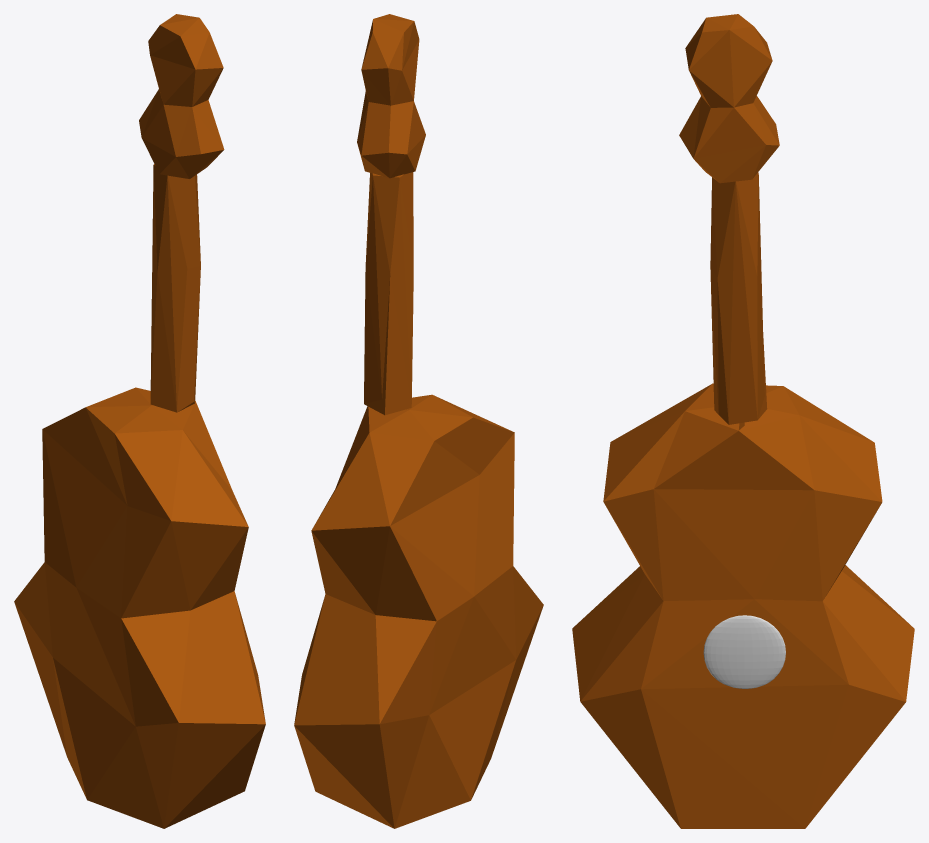
The model's file is uke.fbx.
3 renders of one model, left to right at view 1: azimuth 30°, elevation 25°; view 2: azimuth 150°, elevation 25°; view 3: azimuth 270°, elevation 25°, orthographic. The views are drawn at different scales.
Visible parts, largest first — view 1: uke; view 2: uke; view 3: uke, hole.
Part boxes in pixels (x1=…): uke: x1=14, y1=14, x2=265, y2=828; uke: x1=294, y1=14, x2=543, y2=828; uke: x1=572, y1=14, x2=914, y2=828; hole: x1=703, y1=615, x2=785, y2=688.
Size of the model in its own units: 23.67 by 130 by 50.36.
